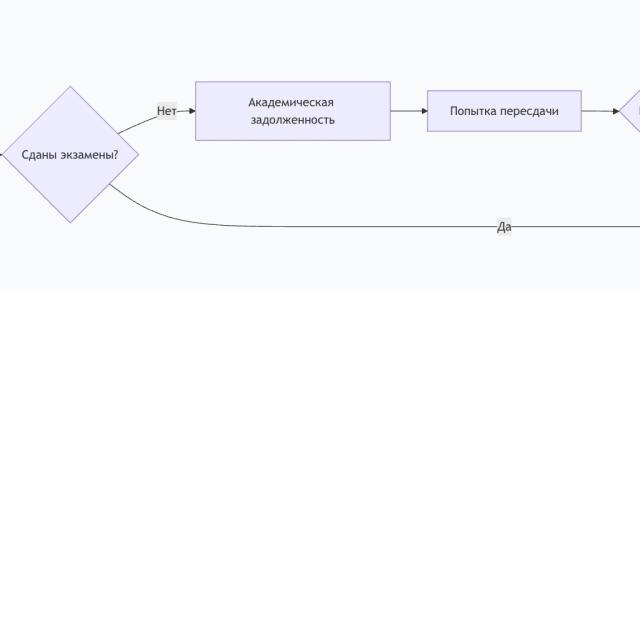arrow: (118, 107, 195, 133), (581, 106, 619, 116), (390, 107, 428, 115)
diamond: (0, 87, 139, 225)
rectangle: (195, 81, 391, 141), (427, 90, 581, 132)
text_region: (155, 102, 179, 120), (496, 218, 513, 234)
